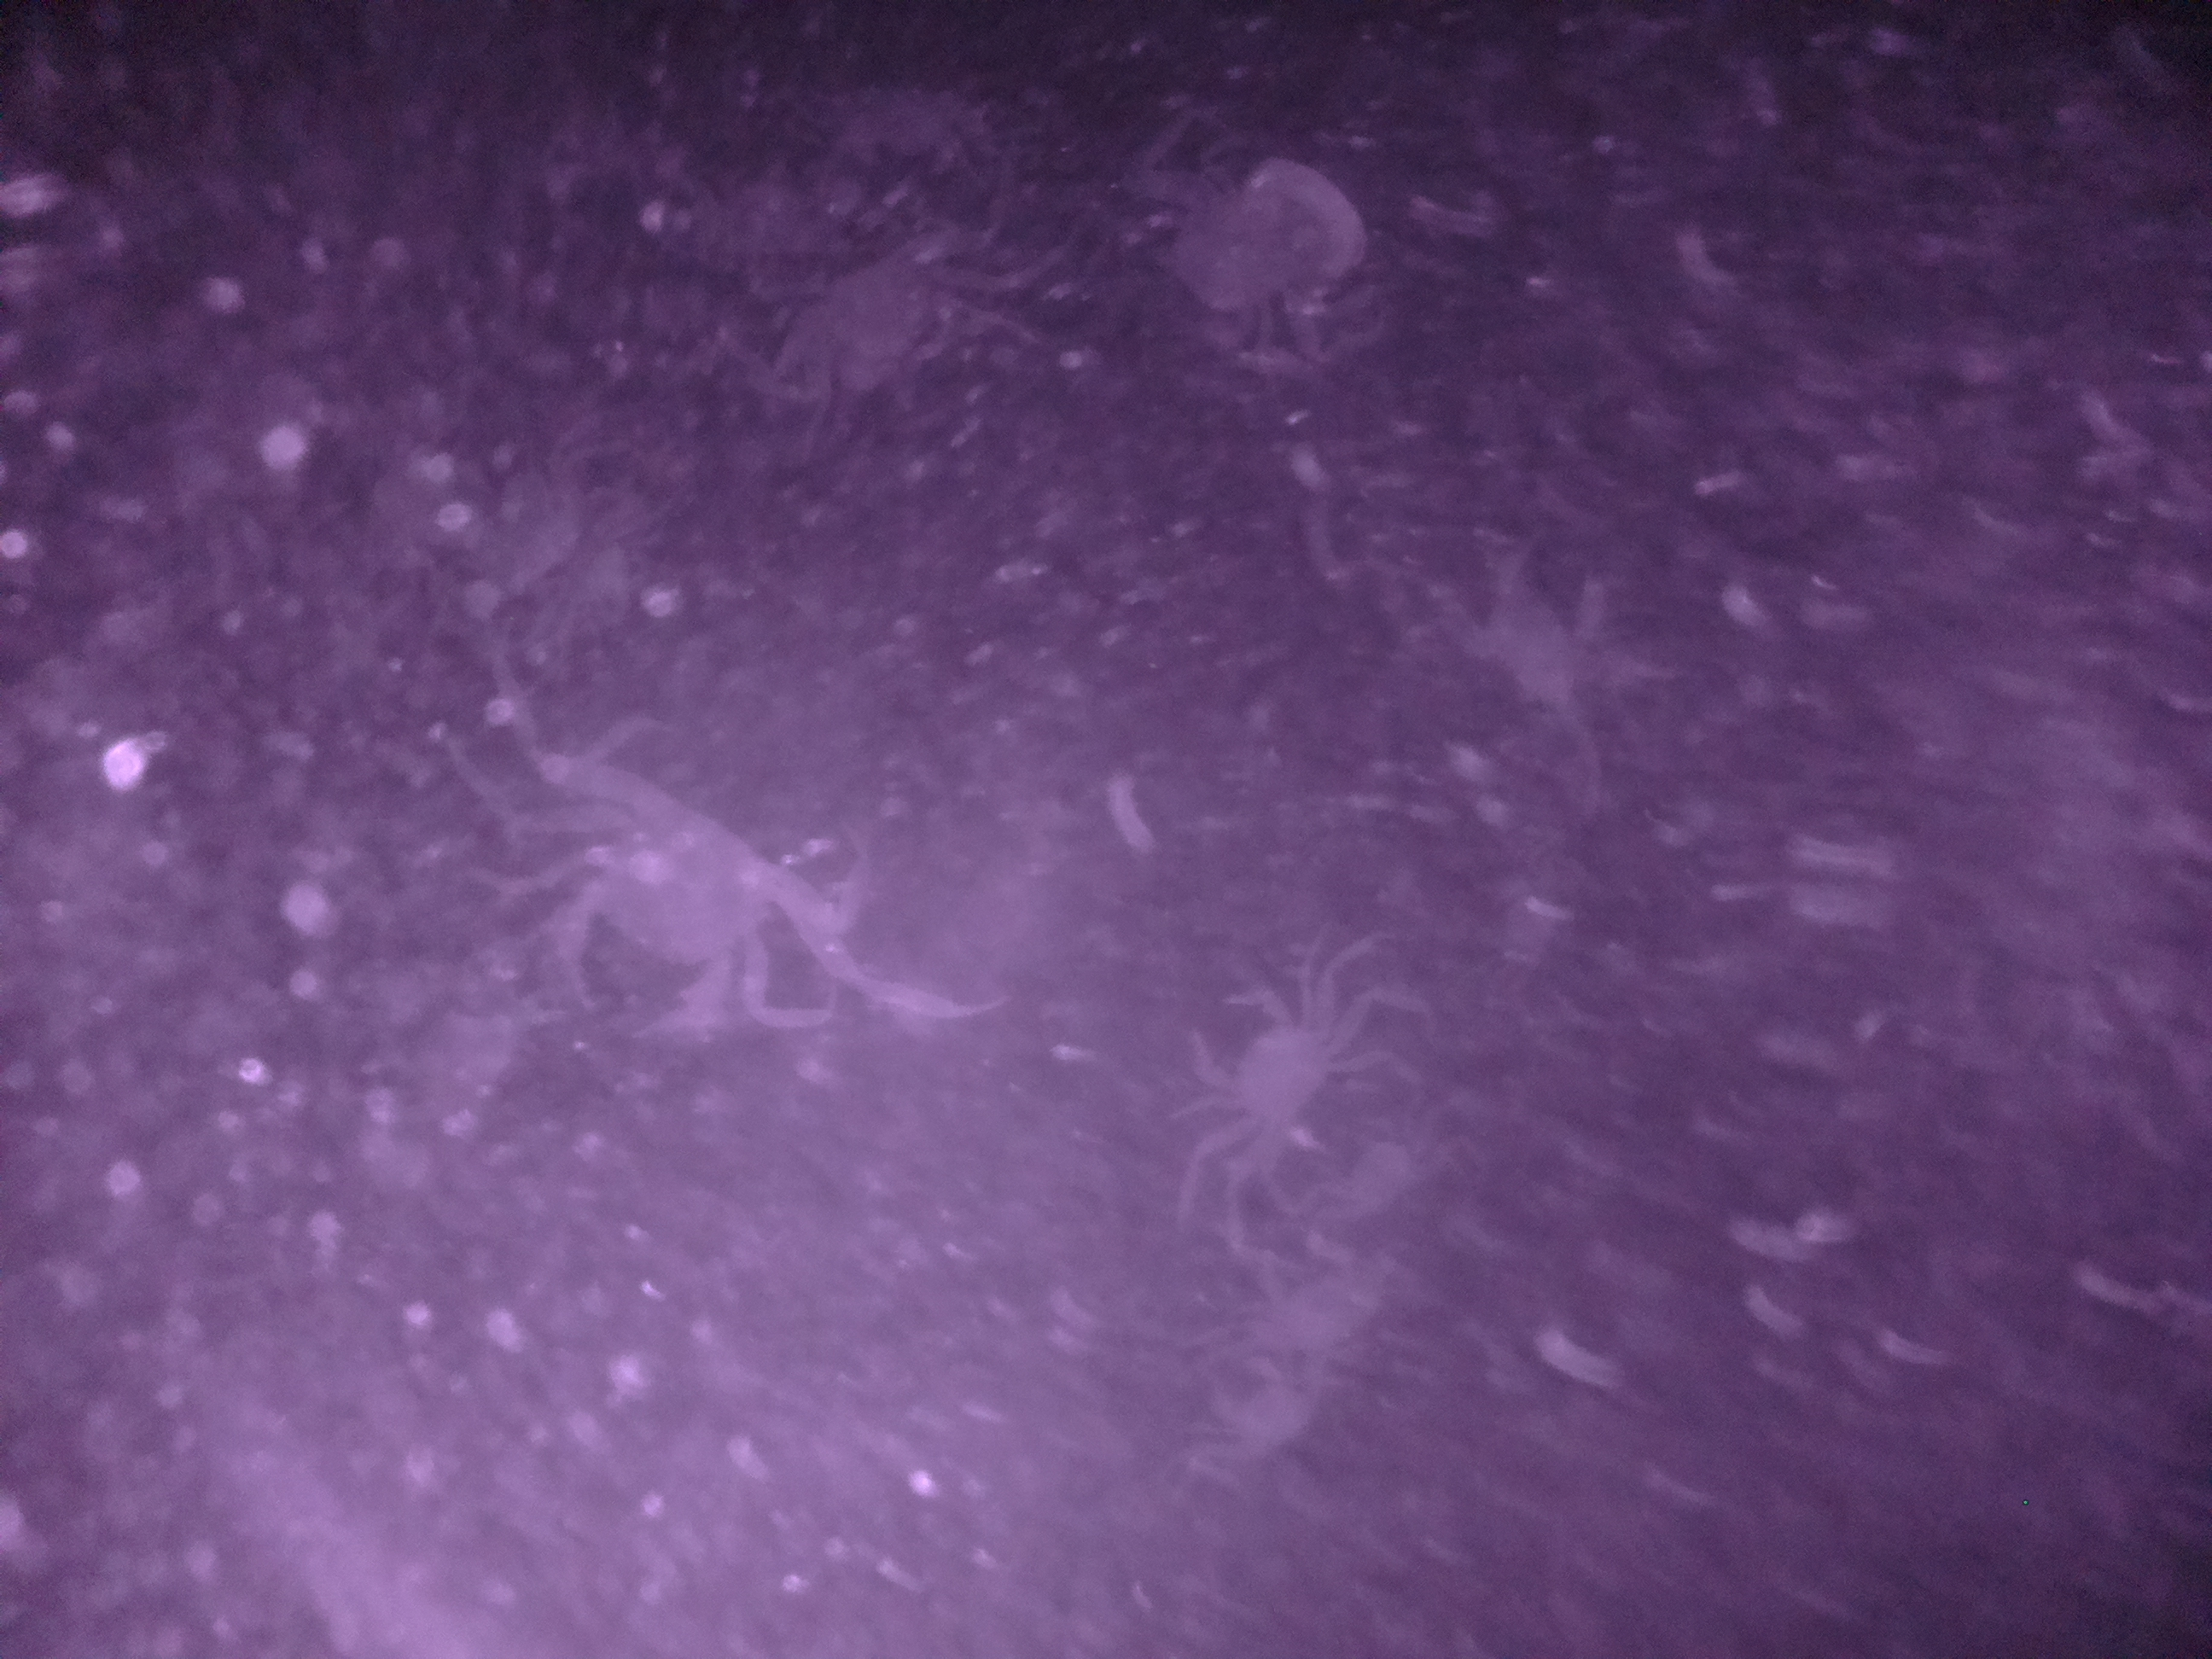Crab: (1170, 955, 1367, 1194), (773, 221, 1005, 418)
